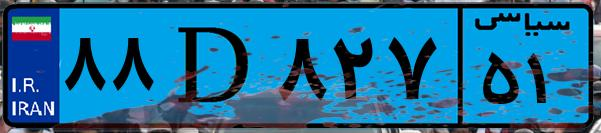1: (525, 38, 570, 115)
2: (330, 28, 385, 110)
5: (475, 38, 525, 113)
7: (385, 28, 445, 110)
8: (270, 28, 330, 110), (57, 26, 110, 100), (110, 28, 158, 98)
D: (158, 12, 270, 120)
